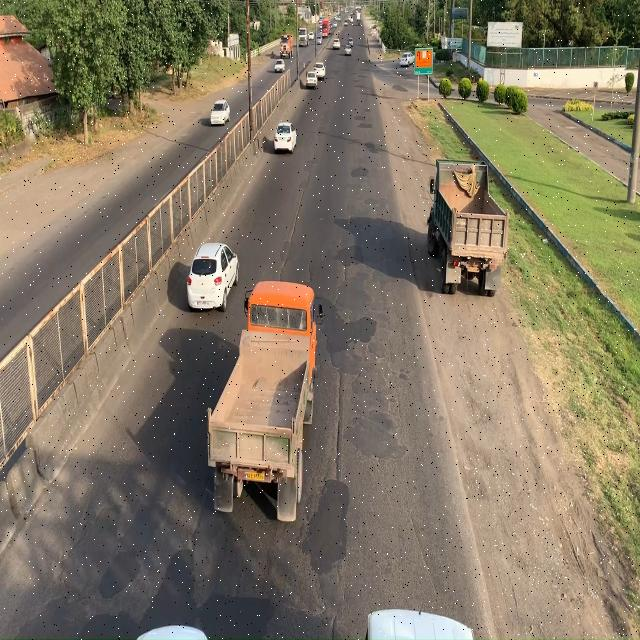Truck: (233, 283, 325, 466), (425, 160, 510, 303)
cars: (186, 238, 240, 310), (272, 118, 297, 153), (211, 101, 228, 126)
